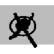not correct: (7, 11, 43, 50)
